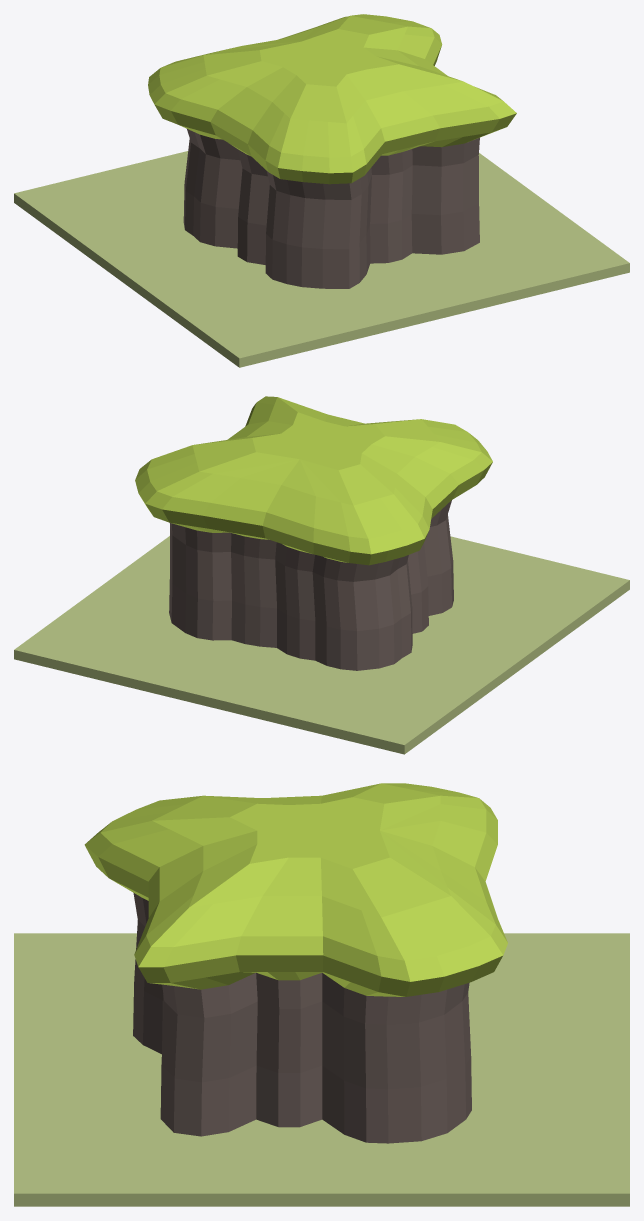
File: Forest I.fbx
The picture shows the model from 3 angles, top to bottom: view 1: azimuth 30°, elevation 25°; view 2: azimuth 150°, elevation 25°; view 3: azimuth 270°, elevation 25°; orthographic projection. The views are drawn at different scales.
Parts seen in each view (by area): view 1: Forest I; view 2: Forest I; view 3: Forest I.
Part boxes in pixels (x1,y1,x2,y2): Forest I: (14, 14, 629, 367); Forest I: (14, 396, 629, 754); Forest I: (14, 783, 629, 1206).
Size of the model in its own units: 1600 by 706 by 1600.
